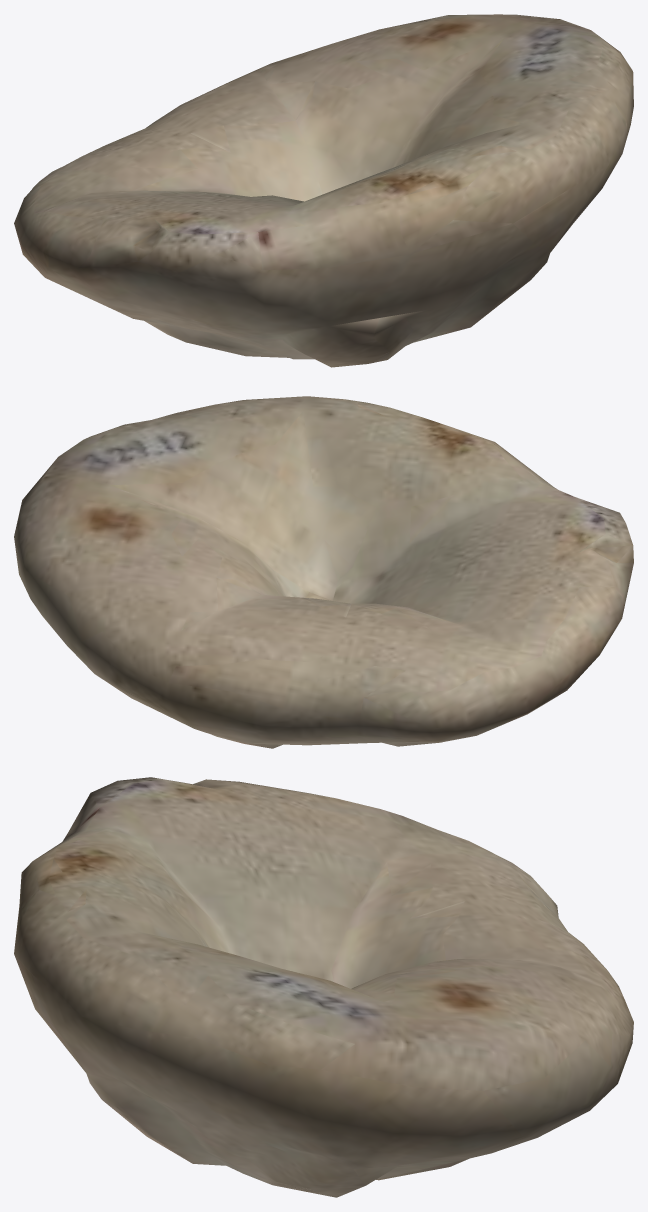
Rendered from scan_sand_dollar.glb.
3 views of the same model, one above another, from view 1: azimuth 30°, elevation 25°; view 2: azimuth 150°, elevation 25°; view 3: azimuth 270°, elevation 25° (orthographic). The views are drawn at different scales.
Parts seen in each view (by area): view 1: scan_sand_dollar; view 2: scan_sand_dollar; view 3: scan_sand_dollar.
Boxes of the visible parts, left/top/right/bottom form: scan_sand_dollar: left=14, top=14, right=633, bottom=367; scan_sand_dollar: left=14, top=396, right=633, bottom=748; scan_sand_dollar: left=14, top=777, right=633, bottom=1197.
Bounding box in the file's own units: 0.0803 × 0.0331 × 0.0632.
Materials: 1 (1 with a texture image).
